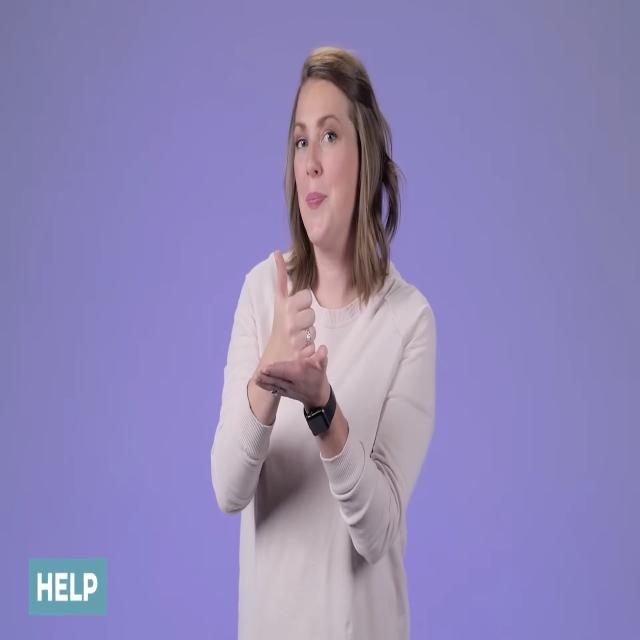help: (241, 241, 339, 430)
